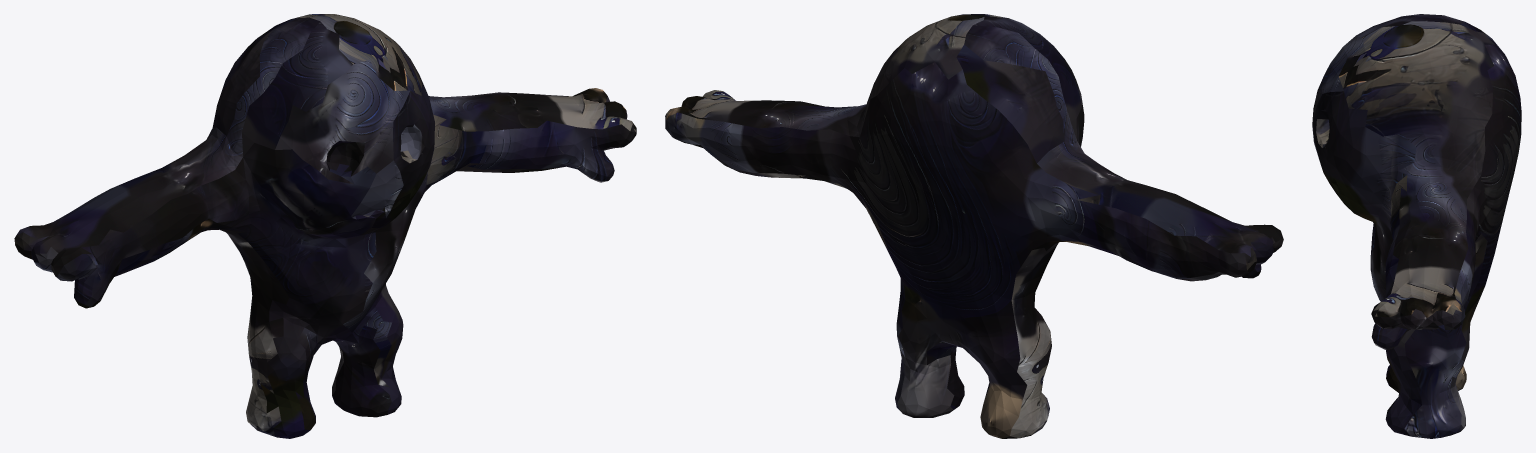
The model's file is Monster_Boss_ARP_V3_ing1_Rigging.fbx.
3 views of the same model, side by side, from view 1: azimuth 30°, elevation 25°; view 2: azimuth 150°, elevation 25°; view 3: azimuth 270°, elevation 25° (orthographic).
Visible parts, largest first — view 1: input; view 2: input; view 3: input.
Part boxes in pixels (x1,y1,x2,y2): input: (14,14,636,438); input: (665,14,1283,438); input: (1312,14,1521,438).
Size of the model in its own units: 499 by 318 by 156.
